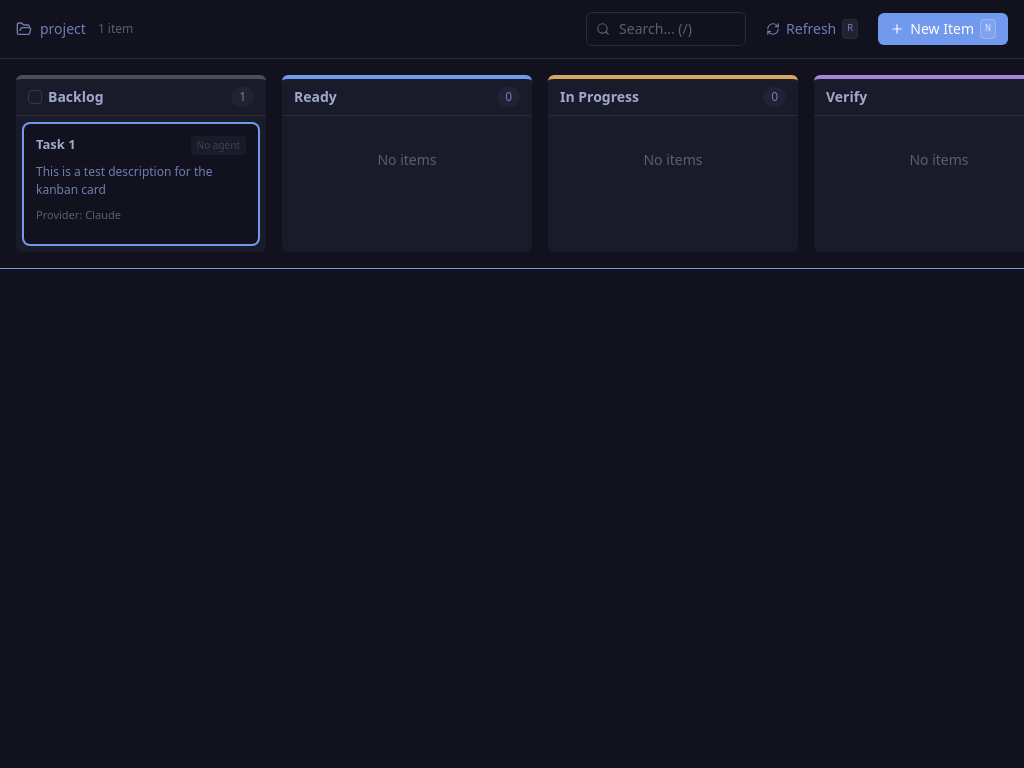
Test: KanbanView dialog-aware focus guard › should not steal focus from dialog container element with tabIndex=-1
The width and height of the screenshot is (1024, 768).
// Open the detail dialog
Click the button with test id "kanban-card" at (141, 184), box left=24, top=124, right=258, bottom=244
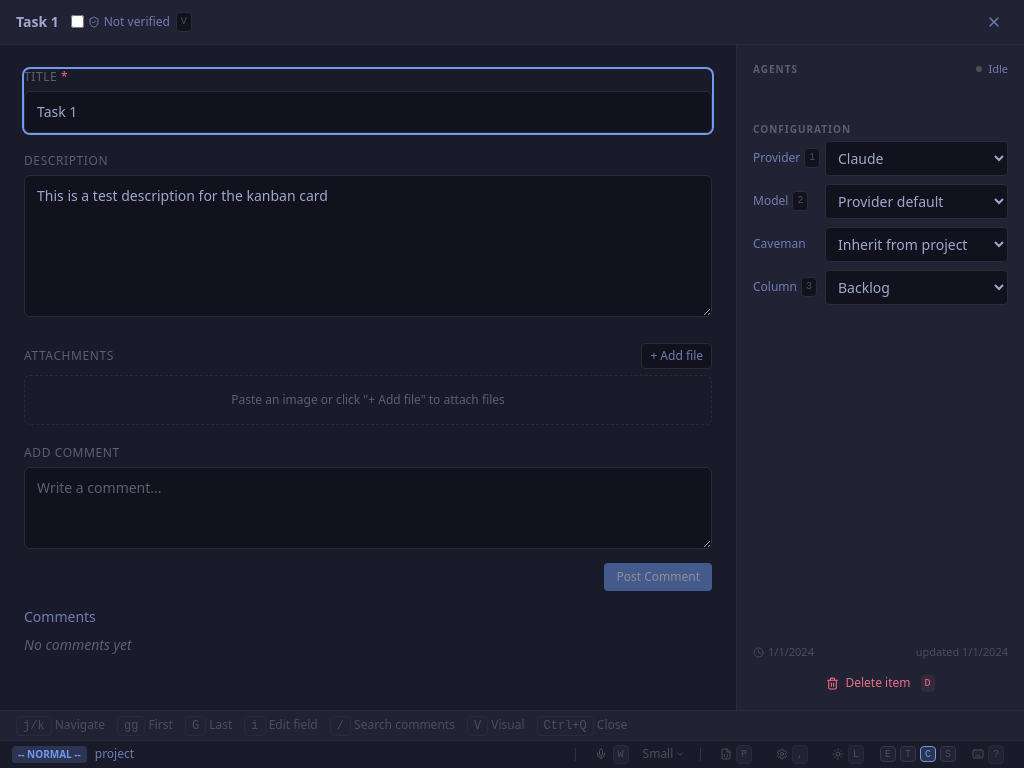
Now the dialog with test id "item-detail-dialog" is shown
